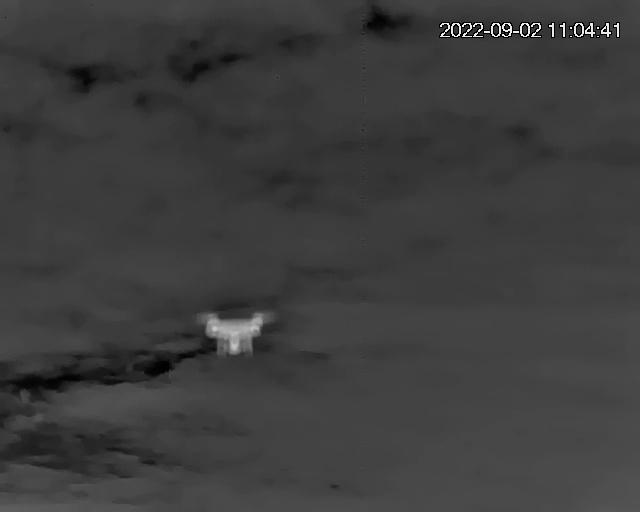DJI-Phantom: (200, 309, 269, 361)
